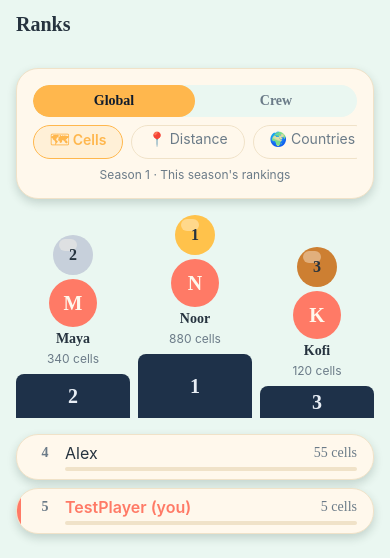
Test case: LeaderboardScreen › filters to Crew members only when Crew tab is pressed
Click the tab "Crew": (276, 100) [260,93,292,108]
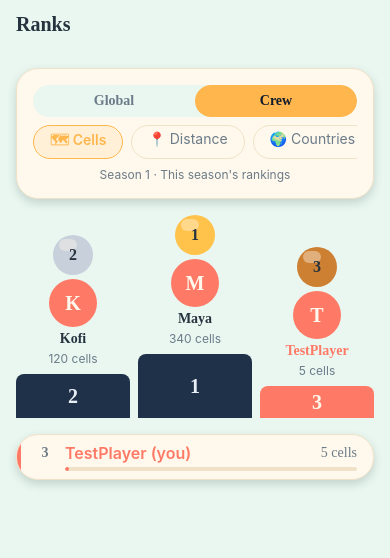
Expected: the text "Maya" is shown, [178,311,212,327]
Expected: the text "Kofi" is shown, [60,331,86,347]
Expected: the text "Noor" is gone
